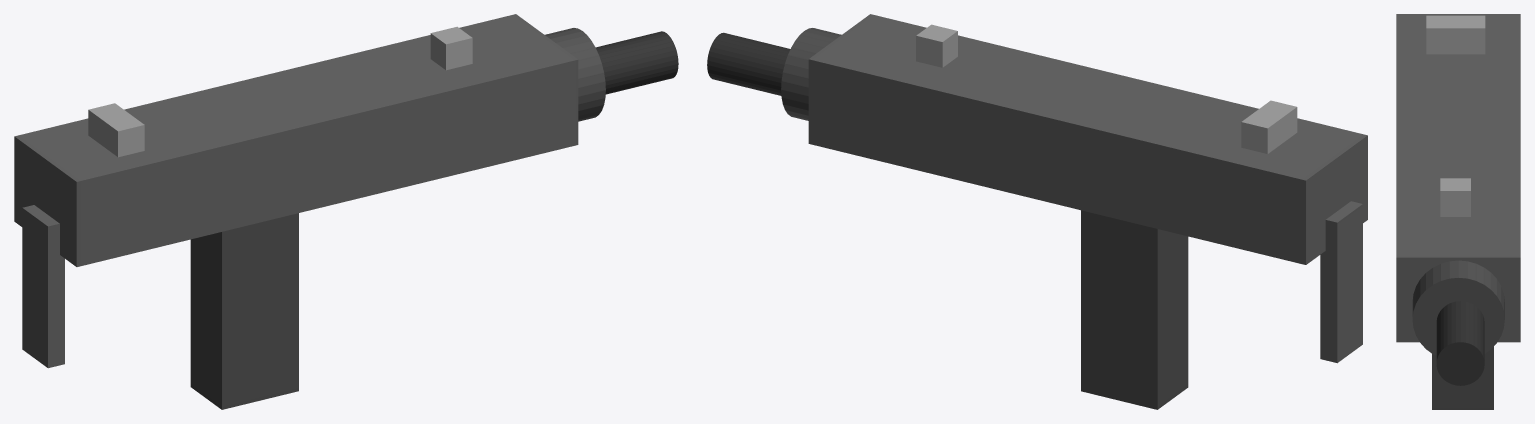
Rendered from Uzi.fbx.
The picture shows the model from 3 angles, left to right: view 1: azimuth 30°, elevation 25°; view 2: azimuth 150°, elevation 25°; view 3: azimuth 270°, elevation 25°; orthographic projection.
Parts seen in each view (by area): view 1: Cube; view 2: Cube; view 3: Cube.
Boxes of the visible parts, box(x1,y1,x2,y2) form: Cube: box(14, 14, 678, 409); Cube: box(707, 14, 1367, 409); Cube: box(1396, 14, 1520, 409).
Size of the model in its own units: 29.61 by 13.7 by 5.05.
